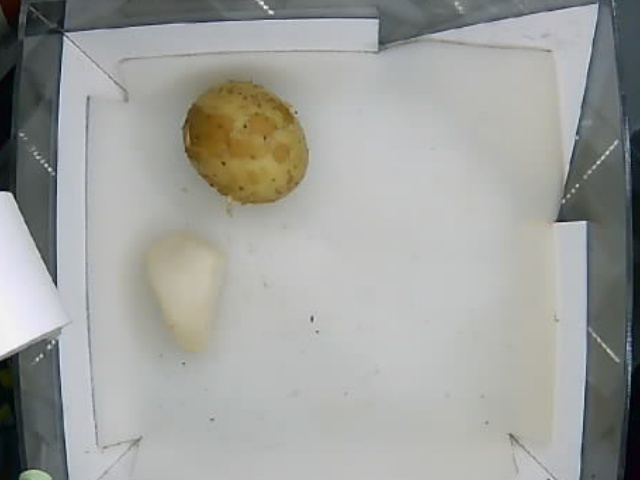Mooli: (145, 235, 228, 354)
Potato: (181, 82, 311, 206)
